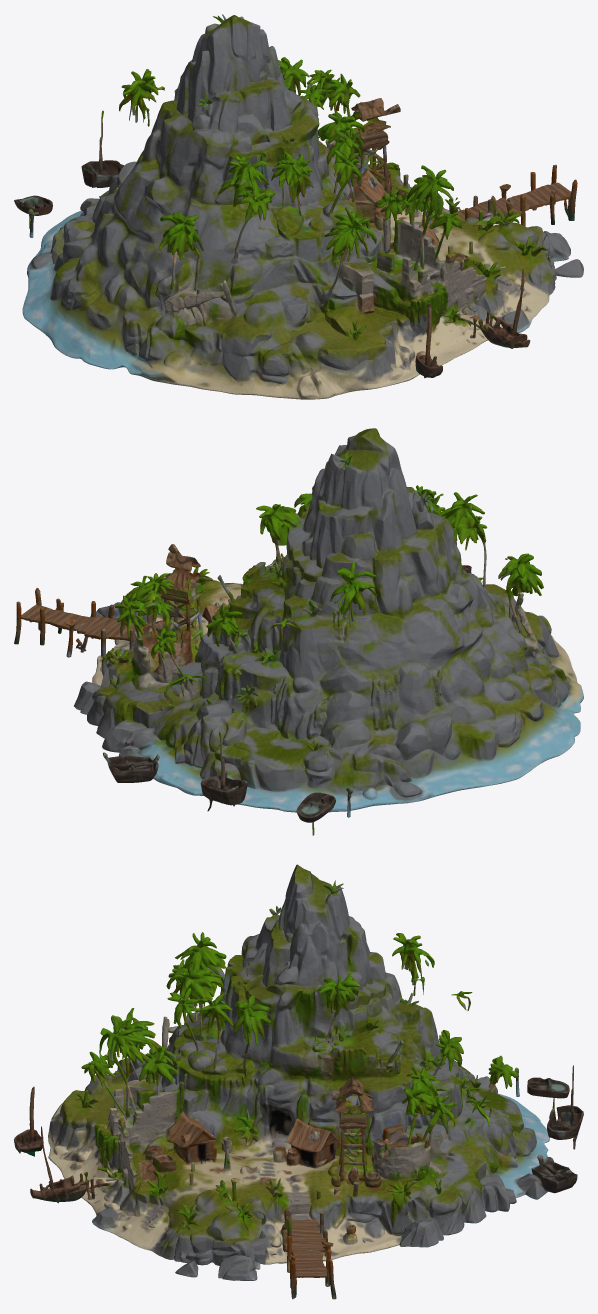
File: island_04.glb
3 renders of one model, top to bottom at view 1: azimuth 30°, elevation 25°; view 2: azimuth 150°, elevation 25°; view 3: azimuth 270°, elevation 25°, orthographic. The views are drawn at different scales.
Parts seen in each view (by area): view 1: tripo_node_faac3364-ea12-4c0f-aea3-ba9d8cfaa247; view 2: tripo_node_faac3364-ea12-4c0f-aea3-ba9d8cfaa247; view 3: tripo_node_faac3364-ea12-4c0f-aea3-ba9d8cfaa247.
Part boxes in pixels (x1,y1,x2,y2): tripo_node_faac3364-ea12-4c0f-aea3-ba9d8cfaa247: (14, 14, 583, 399); tripo_node_faac3364-ea12-4c0f-aea3-ba9d8cfaa247: (14, 428, 583, 835); tripo_node_faac3364-ea12-4c0f-aea3-ba9d8cfaa247: (14, 864, 583, 1299).
Size of the model in its own units: 0.9999 by 0.5376 by 0.9765.
Materials: 1 (1 with a texture image).
